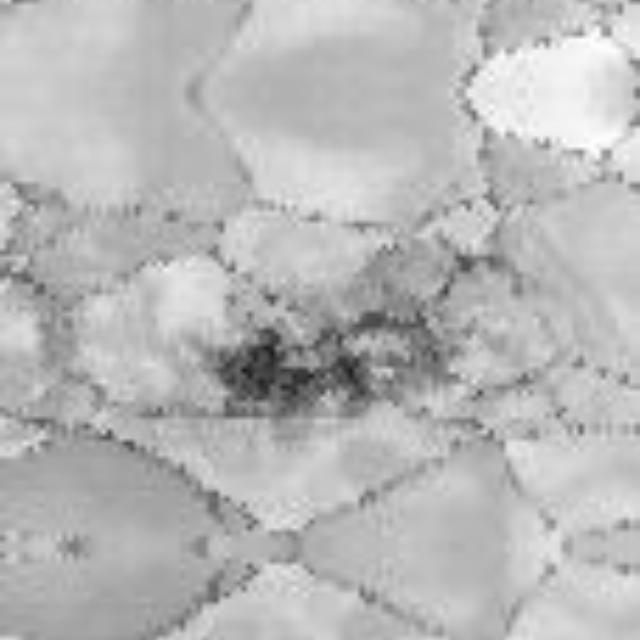good_void: (172, 194, 544, 476)
